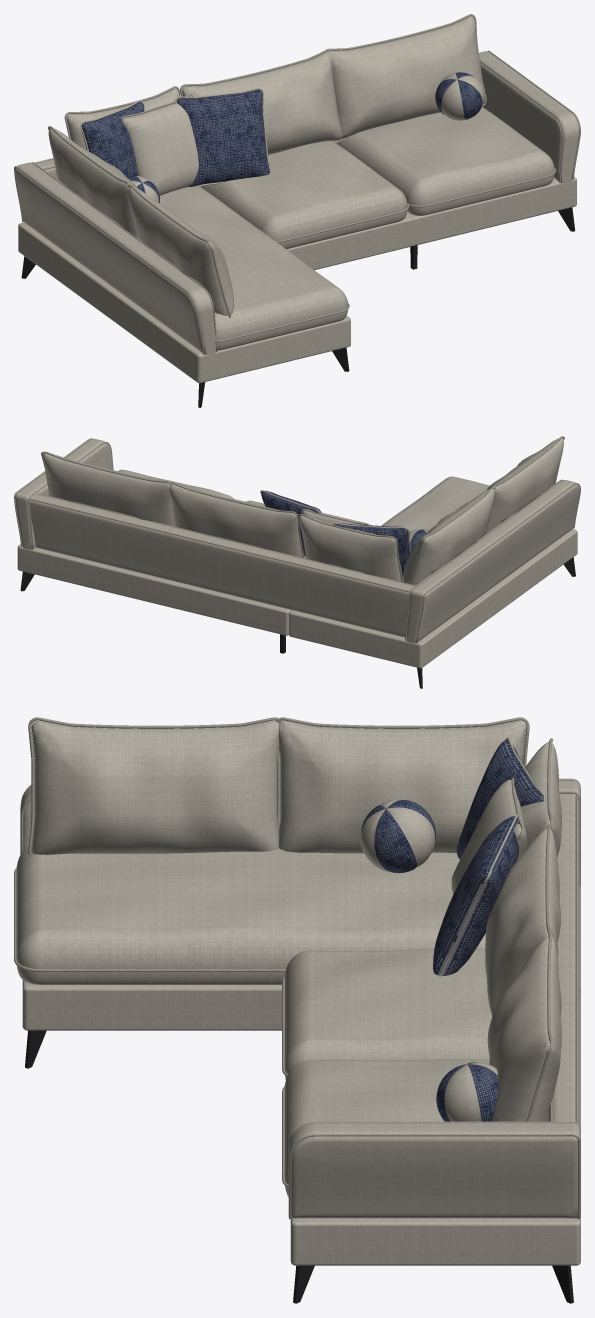
The model's file is corner.glb.
3 renders of one model, top to bottom at view 1: azimuth 30°, elevation 25°; view 2: azimuth 150°, elevation 25°; view 3: azimuth 270°, elevation 25°, orthographic. The views are drawn at different scales.
Parts seen in each view (by area): view 1: fabric (×2), accent, pillows, legs; view 2: fabric (×2), accent, pillows, legs; view 3: fabric (×2), accent, pillows, legs.
Part boxes in pixels (x1,y1,x2,y2): fabric (×2): (14,14,580,383); accent: (81,72,482,202); pillows: (80,73,484,202); legs: (21,207,575,407); fabric (×2): (14,436,580,668); accent: (261,490,428,577); pillows: (260,490,428,553); legs: (20,557,575,688); fabric (×2): (14,717,580,1265); accent: (361,740,543,1121); pillows: (360,737,545,1121); legs: (25,1030,573,1303).
Bounding box in the file's own units: 3 × 0.9709 × 2.01.
5 materials, 4 textured.
